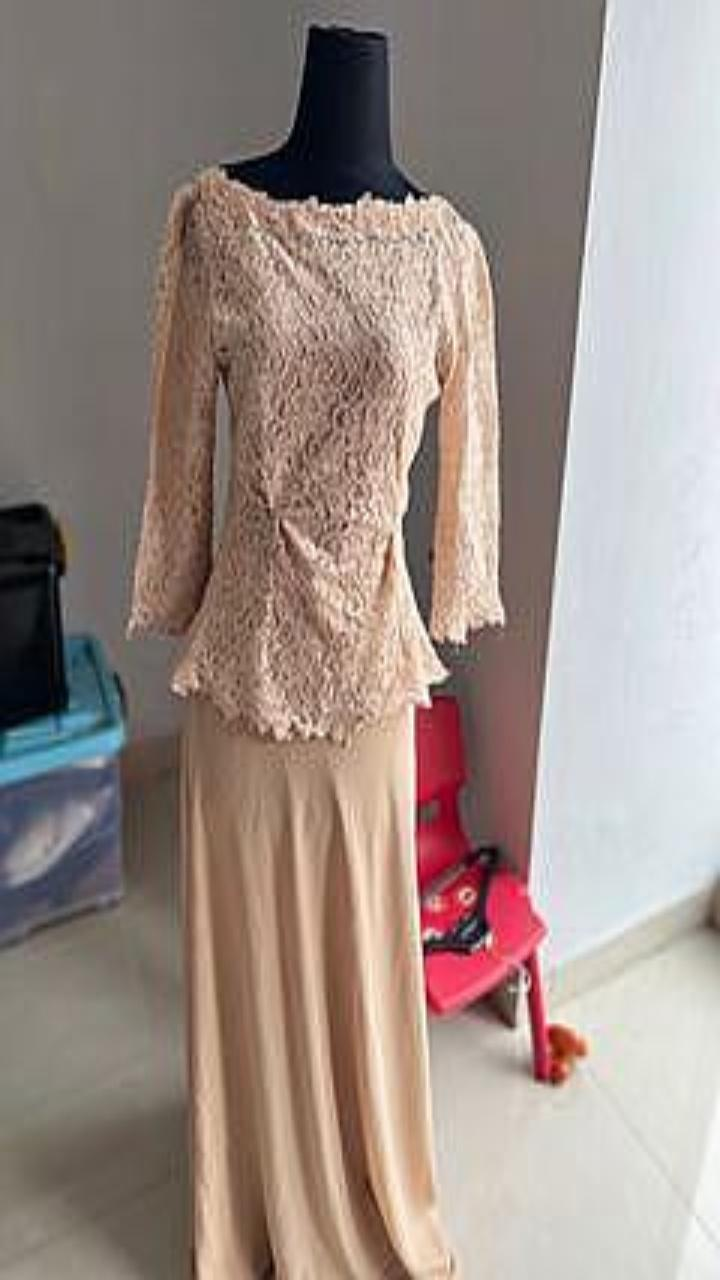T-Shirt: (126, 165, 504, 741)
